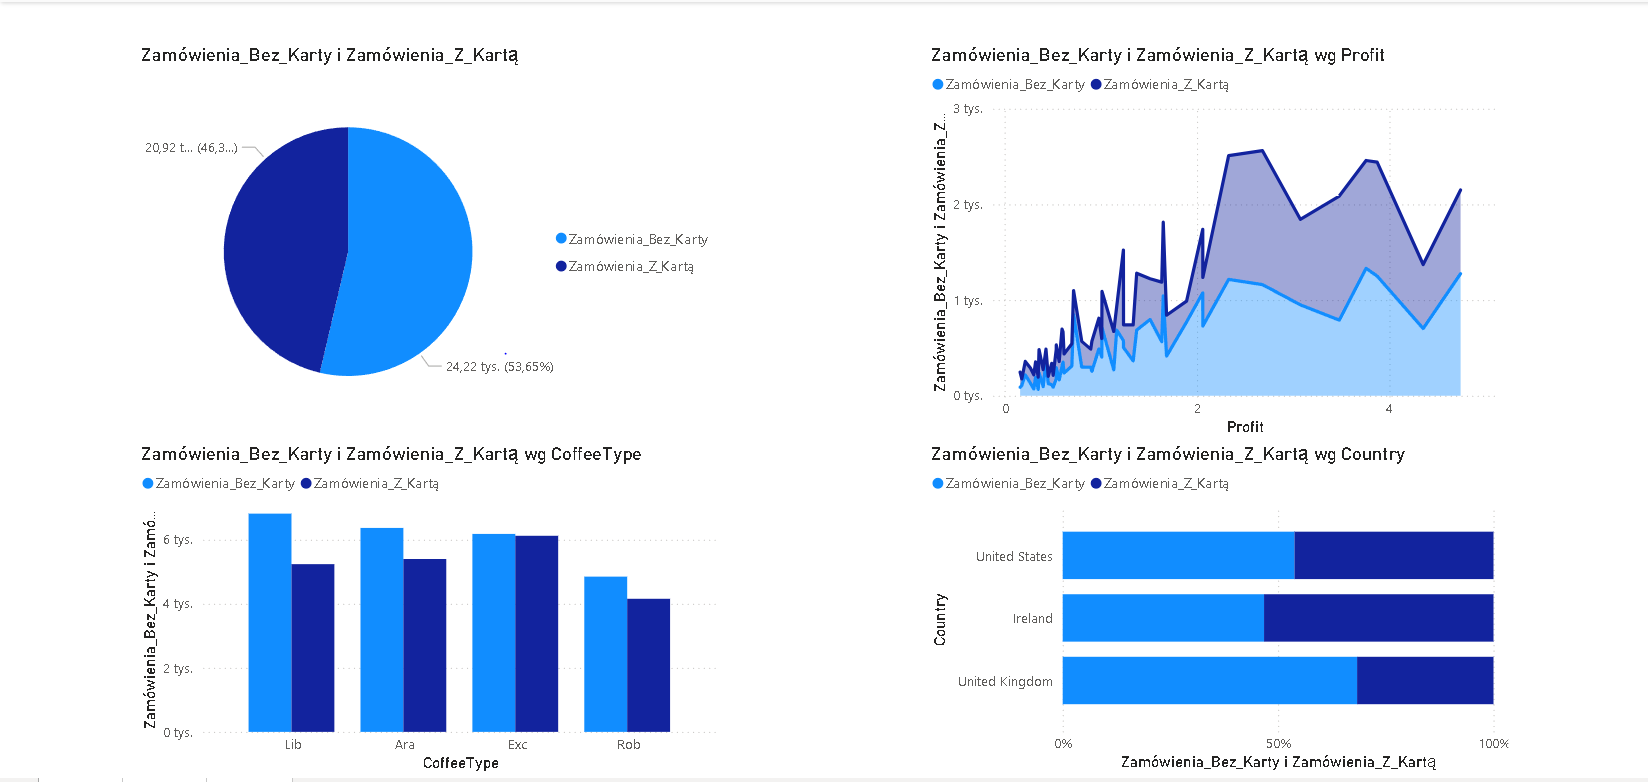

This screenshot's page, from the dashboard's own definition file:
{"tool":"powerbi","page":{"name":"Strona 3","canvas":[1280,720],"ordinal":2},"visuals":[{"type":"pieChart","fields":{"Y":["Orders.Zamówienia_Bez_Karty","Orders.Zamówienia_Z_Kartą"]},"box":[0,36.7,546.1,370.5],"z":0},{"type":"stackedAreaChart","fields":{"Category":["products.Profit"],"Y":["Orders.Zamówienia_Bez_Karty","Orders.Zamówienia_Z_Kartą"]},"box":[733.8,36.9,535,371],"z":1},{"type":"clusteredColumnChart","fields":{"Y":["Orders.Zamówienia_Bez_Karty","Orders.Zamówienia_Z_Kartą"],"Category":["products.CoffeeType"]},"box":[0,407.9,546.2,312.6],"z":2},{"type":"hundredPercentStackedBarChart","fields":{"Category":["Orders.Country"],"Y":["Orders.Zamówienia_Bez_Karty","Orders.Zamówienia_Z_Kartą"]},"box":[733.8,407.9,546.2,311.5],"z":3}]}

Visuals, with their boxes on the page's 1280x720 design canvas (x1, y1, x2, y2). These are canvas units, not pixel positions in the 1648x782 screenshot, which may show the page scaled, cropped or inside an application window:
pieChart - Orders.Zamówienia_Bez_Karty x Orders.Zamówienia_Z_Kartą: crop(0, 37, 546, 407)
stackedAreaChart - products.Profit x Orders.Zamówienia_Bez_Karty: crop(734, 37, 1269, 408)
clusteredColumnChart - Orders.Zamówienia_Bez_Karty x Orders.Zamówienia_Z_Kartą: crop(0, 408, 546, 720)
hundredPercentStackedBarChart - Orders.Country x Orders.Zamówienia_Bez_Karty: crop(734, 408, 1280, 719)
